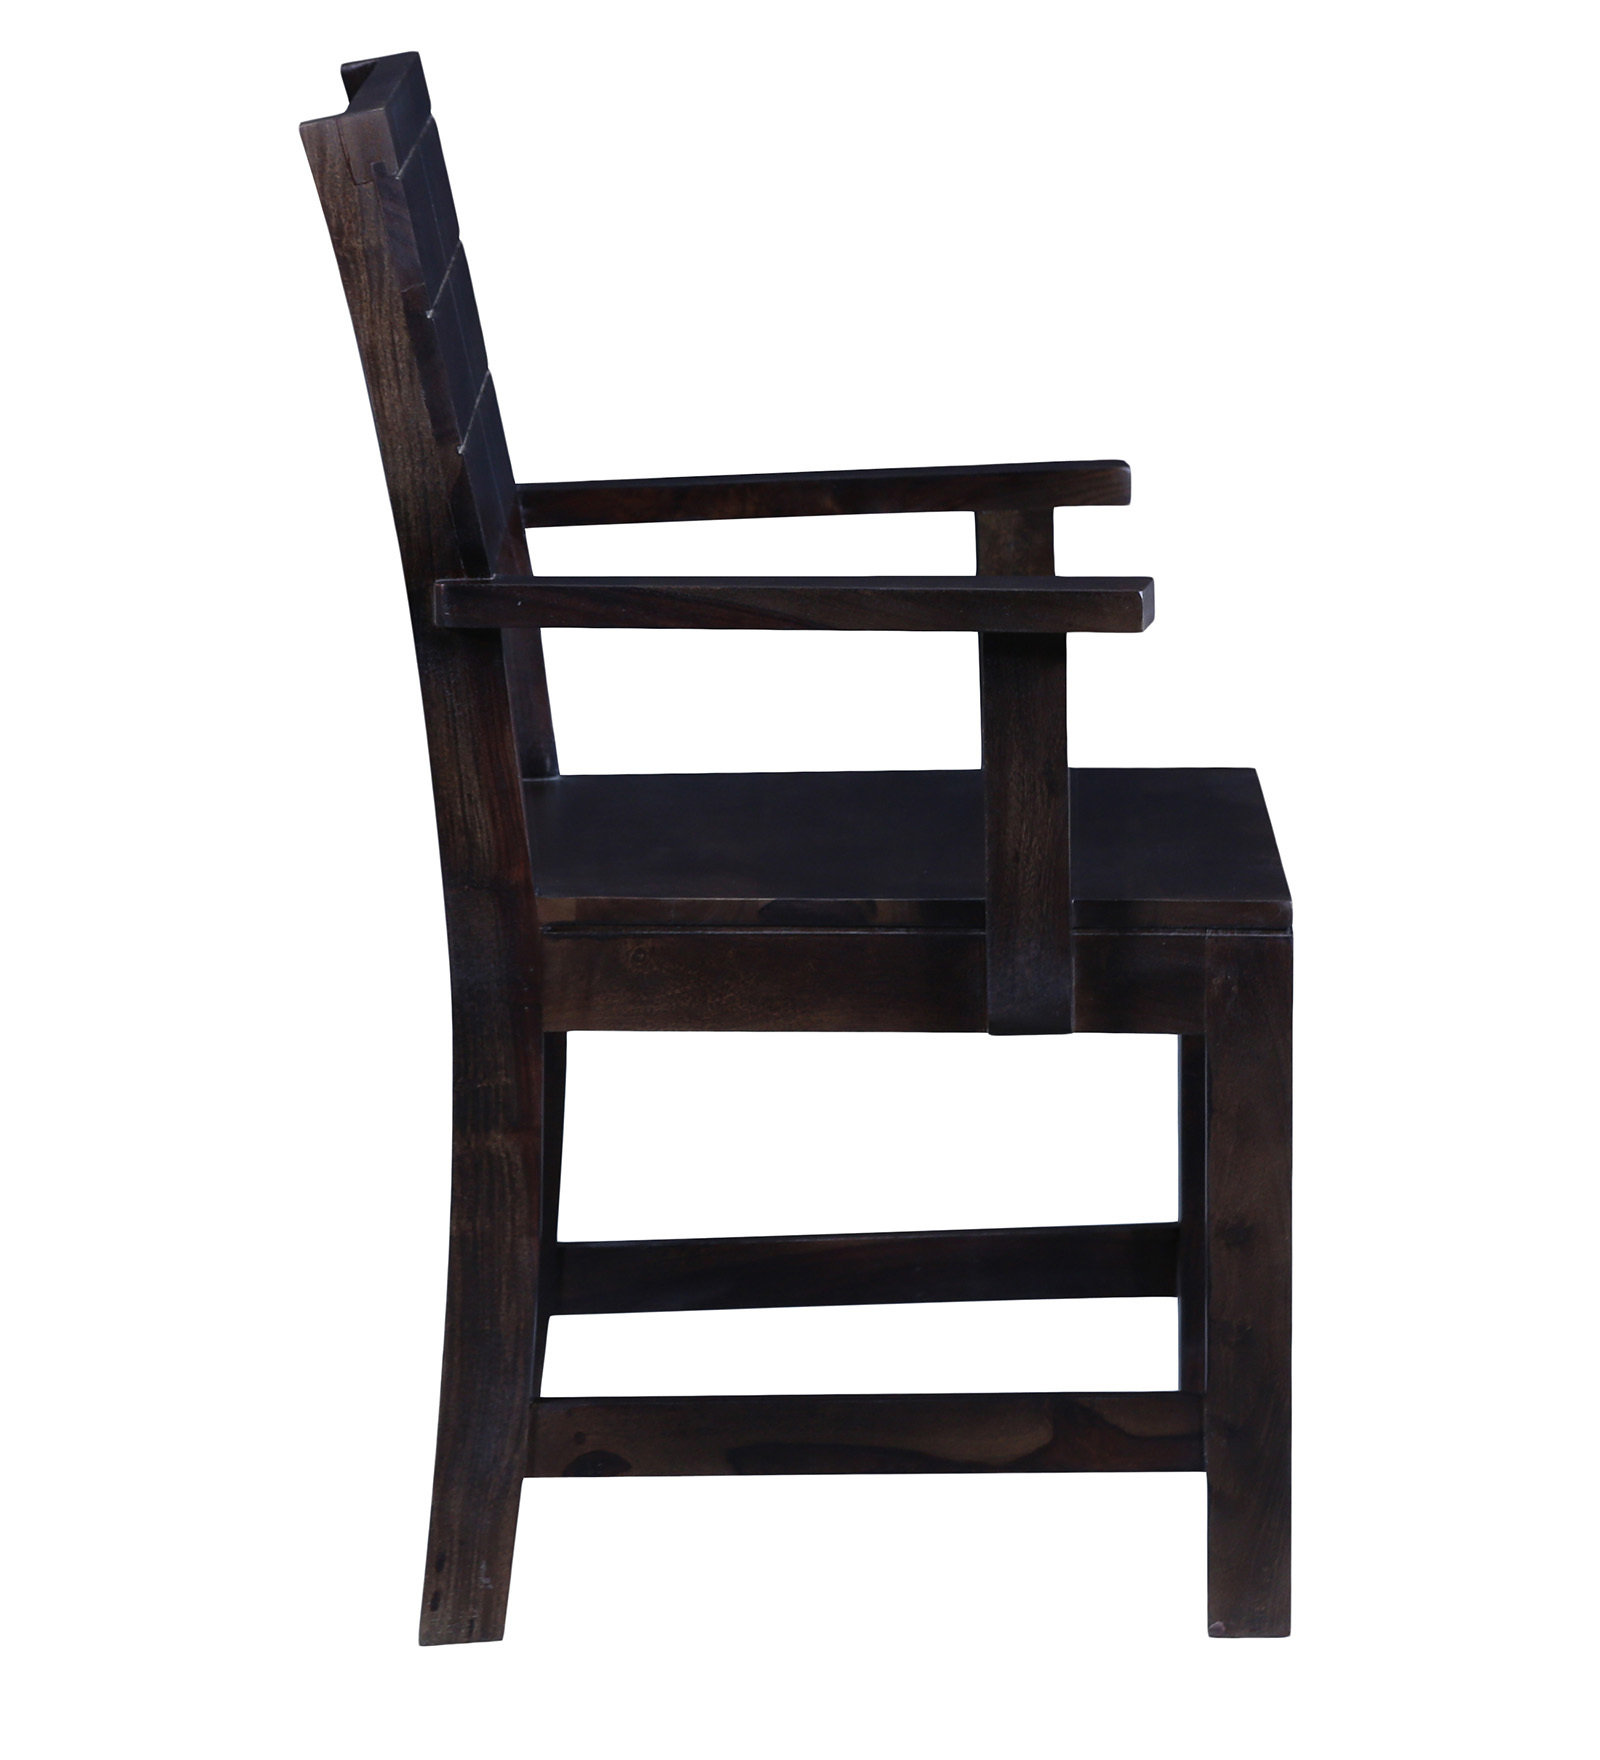Segur Arm Chair in Warm Chestnut Finish by Woodsworth: (222, 31, 1369, 1712)
